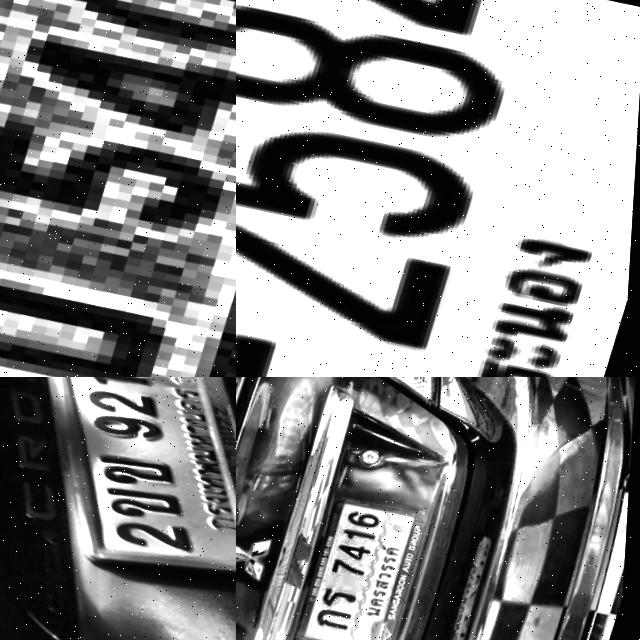license-plate: (236, 0, 640, 377), (0, 0, 236, 377), (0, 377, 236, 618), (295, 495, 435, 640)
